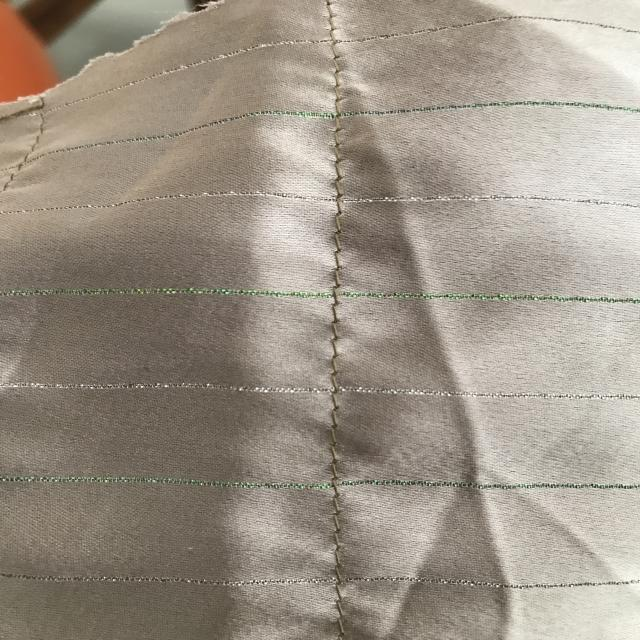good: (317, 304, 363, 391), (316, 408, 362, 486), (307, 123, 359, 189), (318, 207, 360, 276)
